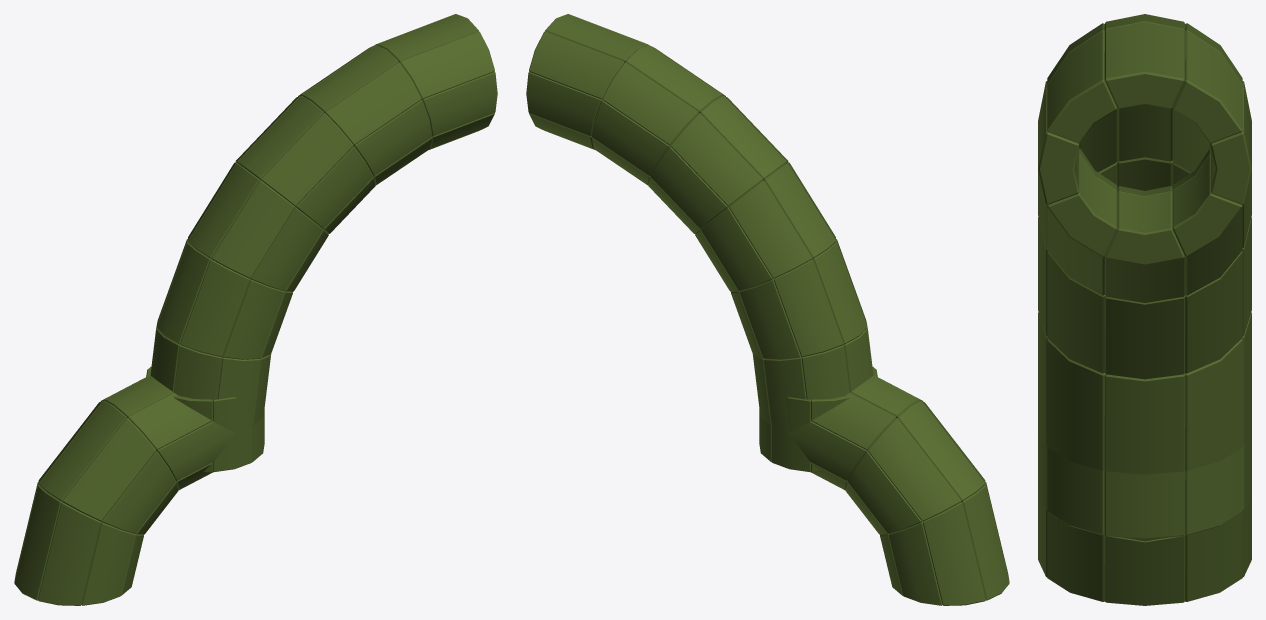
Rendered from marblerunSections.fbx.
The picture shows the model from 3 angles, left to right: view 1: azimuth 30°, elevation 25°; view 2: azimuth 150°, elevation 25°; view 3: azimuth 270°, elevation 25°; orthographic projection. The views are drawn at different scales.
Parts seen in each view (by area): view 1: group7, pCylinder43, pCylinder52; view 2: group7, pCylinder43, pCylinder52; view 3: group7, pCylinder43, pCylinder52.
Boxes of the visible parts, left/top/right/bottom form: group7: left=150, top=14, right=497, bottom=432; pCylinder43: left=14, top=375, right=234, bottom=605; pCylinder52: left=146, top=366, right=264, bottom=472; group7: left=526, top=14, right=873, bottom=432; pCylinder43: left=789, top=375, right=1009, bottom=605; pCylinder52: left=759, top=366, right=877, bottom=472; group7: left=1038, top=14, right=1251, bottom=474; pCylinder43: left=1038, top=493, right=1251, bottom=605; pCylinder52: left=1038, top=429, right=1251, bottom=539.
Size of the model in its own units: 1.3 by 1.3 by 0.302.
